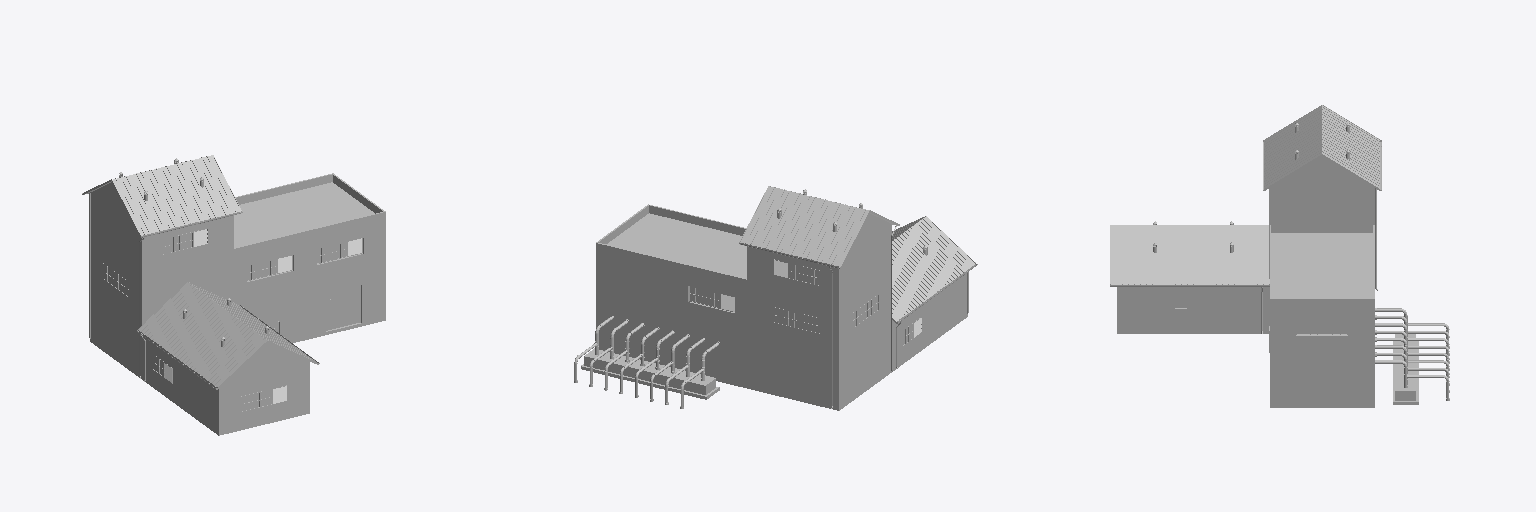
The model's file is Industrial Building  22_obj.obj.
The picture shows the model from 3 angles: view 1: azimuth 30°, elevation 25°; view 2: azimuth 150°, elevation 25°; view 3: azimuth 270°, elevation 25°; orthographic projection.
Parts seen in each view (by area): view 1: Wall, Roof, Window, Door; view 2: Wall, Roof, Pipe, Window; view 3: Wall, Roof, Pipe, Window, Door.
Boxes of the visible parts, x1,y1,x2,y2 form: Wall: [89, 173, 385, 435]; Roof: [82, 155, 319, 389]; Window: [103, 228, 362, 411]; Door: [269, 285, 360, 333]; Wall: [596, 204, 968, 410]; Roof: [739, 186, 977, 408]; Pipe: [574, 316, 719, 408]; Window: [689, 259, 921, 346]; Wall: [1117, 156, 1374, 407]; Roof: [1110, 105, 1381, 333]; Pipe: [1375, 308, 1449, 404]; Window: [1296, 320, 1347, 334]; Door: [1175, 211, 1288, 352].
Size of the model in its own units: 24994 by 17475 by 29478.